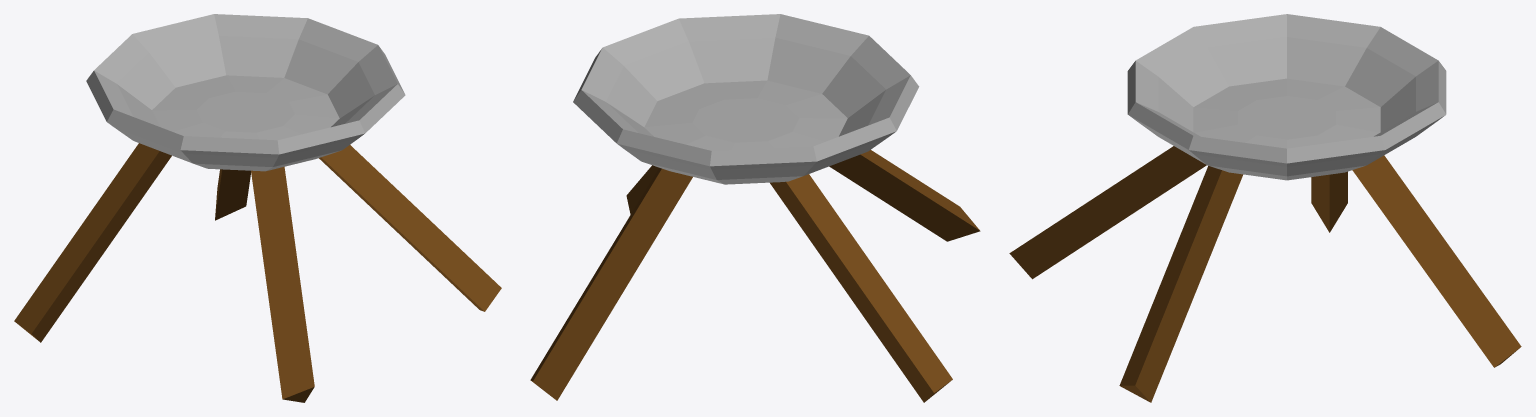
The model's file is CookingStand.fbx.
3 views of the same model, side by side, from view 1: azimuth 30°, elevation 25°; view 2: azimuth 150°, elevation 25°; view 3: azimuth 270°, elevation 25° (orthographic). The views are drawn at different scales.
Visible parts, largest first — view 1: polySurface175; view 2: polySurface175; view 3: polySurface175.
Part boxes in pixels (<box>): polySurface175: <box>14,14,501,402</box>; polySurface175: <box>530,14,980,402</box>; polySurface175: <box>1009,14,1521,402</box>.
Size of the model in its own units: 83.03 by 48.58 by 91.55.
